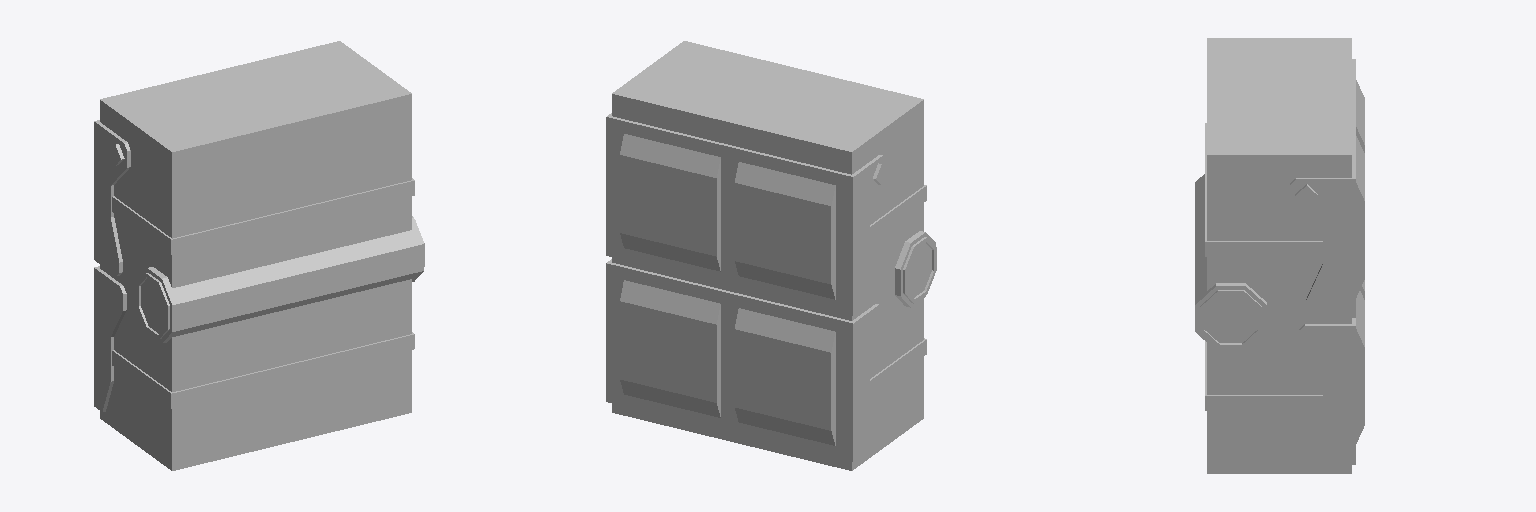
File: futuriste_leggings_item.obj
The picture shows the model from 3 angles: view 1: azimuth 30°, elevation 25°; view 2: azimuth 150°, elevation 25°; view 3: azimuth 270°, elevation 25°; orthographic projection.
Visible parts, largest first — view 1: Leftleg, Rightleg, LeftLeg; view 2: Leftleg, Rightleg, LeftLeg; view 3: Rightleg, Leftleg, RightLeg.
Part boxes in pixels (x1,y1,x2,y2): Leftleg: (94, 71, 309, 470); Rightleg: (215, 41, 423, 440); LeftLeg: (136, 273, 169, 339); Leftleg: (721, 71, 935, 470); Rightleg: (606, 41, 808, 440); LeftLeg: (903, 237, 936, 303); Rightleg: (1195, 99, 1364, 473); Leftleg: (1195, 38, 1364, 299); RightLeg: (1200, 290, 1261, 347).
Bounding box in the file's own units: 0.5591 × 0.6641 × 0.3198.